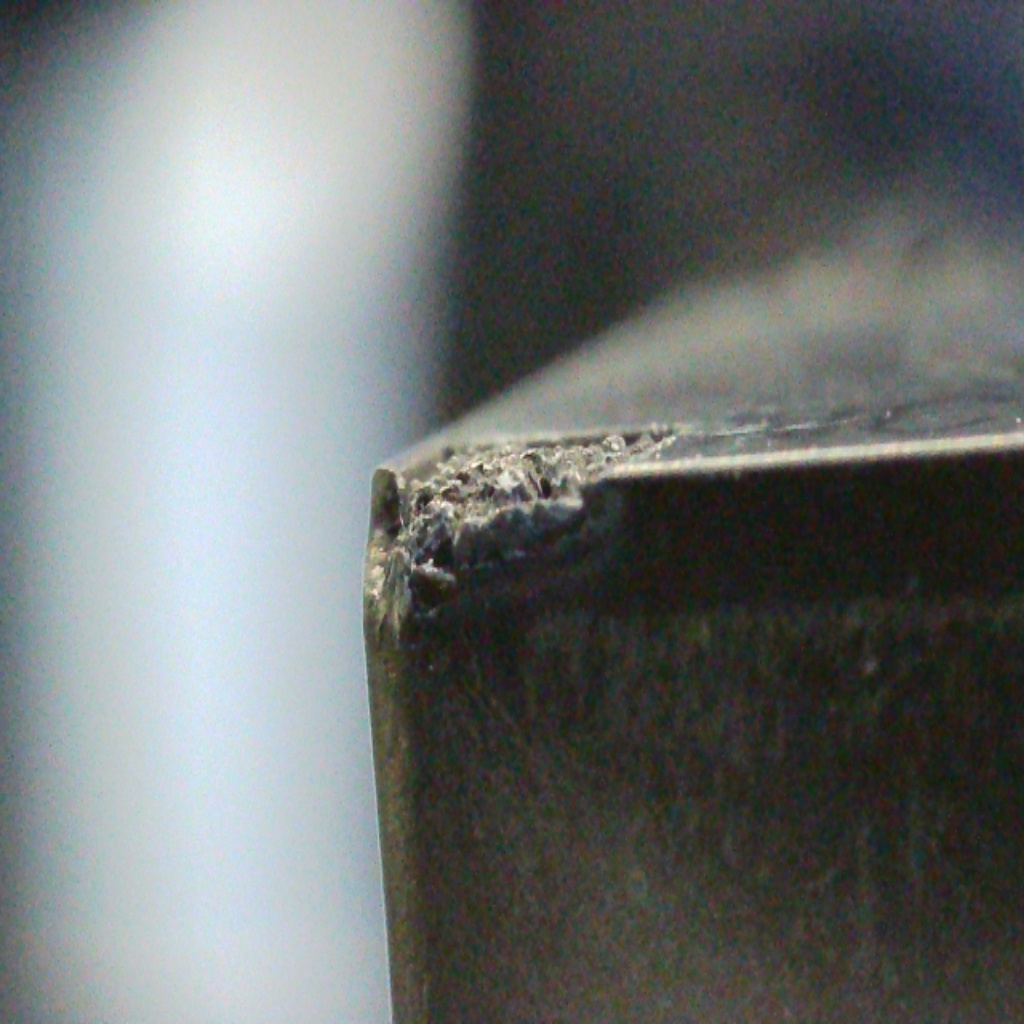flank_wear: (360, 496, 479, 658)
